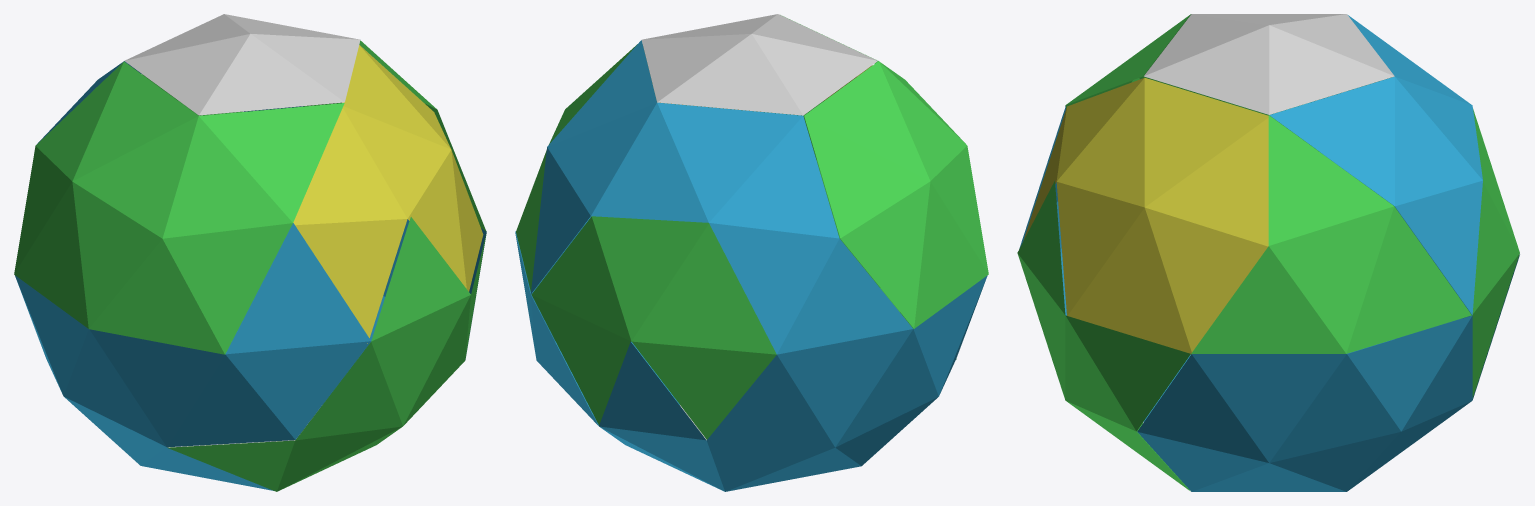
File: World1_Split.fbx
3 views of the same model, side by side, from view 1: azimuth 30°, elevation 25°; view 2: azimuth 150°, elevation 25°; view 3: azimuth 270°, elevation 25° (orthographic). The views are drawn at different scales.
Parts seen in each view (by area): view 1: World1_Land, World1_Water, World1_Desert, World1_Ice; view 2: World1_Water, World1_Land, World1_Ice; view 3: World1_Water, World1_Land, World1_Desert, World1_Ice.
Part boxes in pixels (x1,y1,x2,y2): World1_Land: (14,40,486,491); World1_Water: (15,61,486,490); World1_Desert: (293,45,483,343); World1_Ice: (124,14,360,447); World1_Water: (515,40,987,491); World1_Land: (516,16,988,439); World1_Ice: (641,14,877,440); World1_Water: (1019,15,1519,491); World1_Land: (1017,14,1519,491); World1_Desert: (1023,77,1268,354); World1_Ice: (1144,14,1394,114).
Size of the model in its own units: 496 by 521 by 521.
